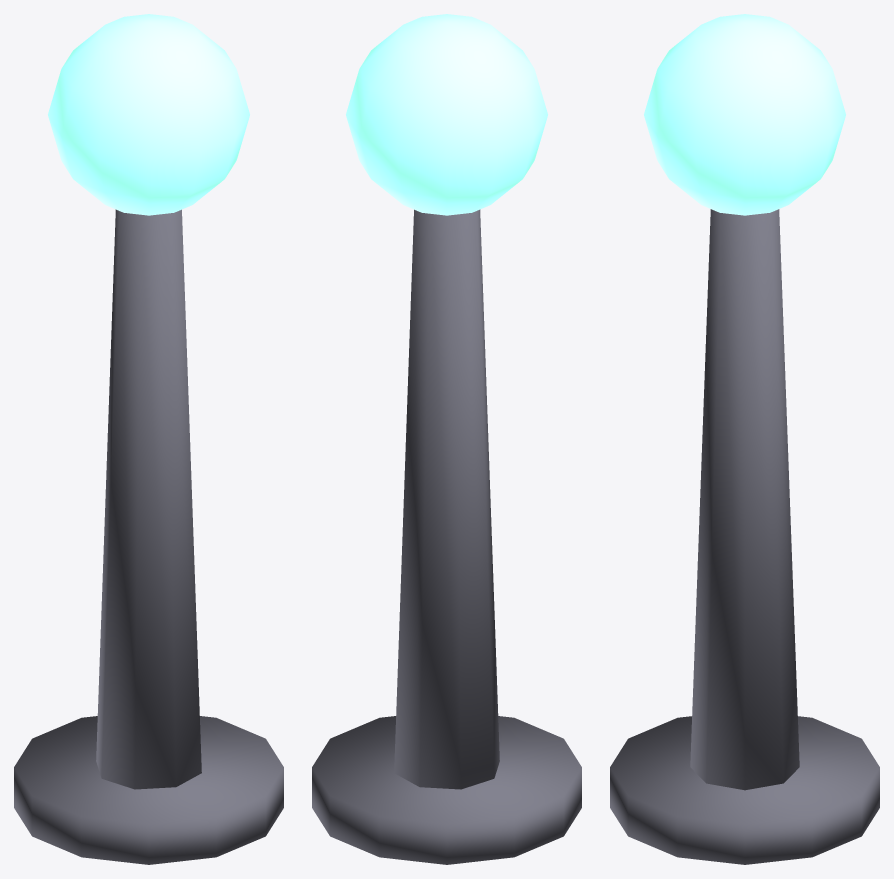
The model's file is beacon.glb.
3 renders of one model, left to right at view 1: azimuth 30°, elevation 25°; view 2: azimuth 150°, elevation 25°; view 3: azimuth 270°, elevation 25°, orthographic.
Visible parts, largest first — view 1: Beacon; view 2: Beacon; view 3: Beacon.
Boxes of the visible parts, x1,y1,x2,y2 form: Beacon: (14, 14, 283, 864); Beacon: (312, 14, 581, 864); Beacon: (610, 14, 879, 864).
Size of the model in its own units: 1.2 by 3.85 by 1.2.
